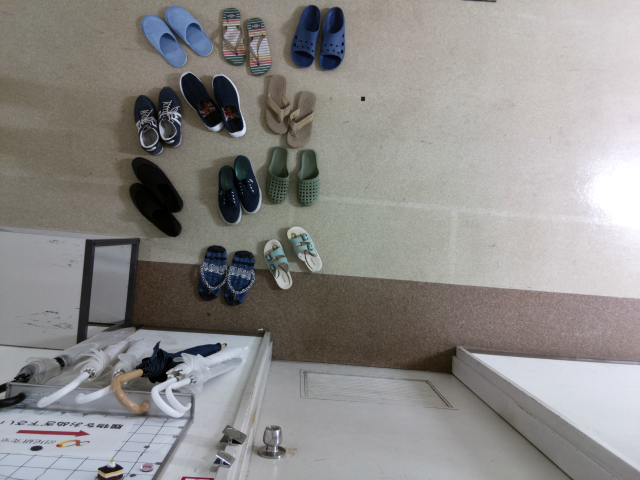Copy of Copy of Copy of Copy of Copy of Copy of Copy of Copy of Copy of Copy of: (175, 63, 229, 138), (133, 6, 193, 71), (160, 2, 220, 60), (206, 69, 250, 142), (314, 2, 355, 74), (284, 1, 324, 72), (241, 10, 279, 81), (259, 144, 296, 211), (289, 144, 326, 211), (288, 83, 325, 150), (258, 71, 295, 138), (213, 2, 250, 67)
Copy of Copy of Copy of Copy of Copy of Copy of Copy of Copy of Copy of shoe: (228, 149, 265, 217)
Copy of Copy of Copy of Copy of Copy of Copy of Copy of Copy of shoe: (208, 160, 246, 227)
Copy of Copy of Copy of Copy of Copy of Copy of Copy of shoe: (283, 217, 327, 281)
Copy of Copy of Copy of Copy of Copy of Copy of shoe: (258, 234, 298, 296)
Copy of Copy of Copy of Copy of Copy of shoe: (221, 246, 259, 313)
Copy of Copy of Copy of Copy of Copy of umbrella: (1, 319, 134, 410)
Copy of Copy of Copy of Copy of shoe: (190, 240, 228, 307)
Copy of Copy of Copy of Copy of umbrella: (31, 324, 146, 411)
Copy of Copy of Copy of shoe: (128, 154, 188, 217)
Copy of Copy of Copy of umbrella: (70, 326, 158, 409)
Copy of Copy of shoe: (125, 175, 186, 239)
Copy of Copy of umbrella: (104, 334, 227, 417)
Copy of shoe: (150, 84, 191, 152)
Copy of umbrella: (165, 351, 259, 426)
shoe: (124, 91, 165, 159)
umbrella: (150, 339, 258, 427)
